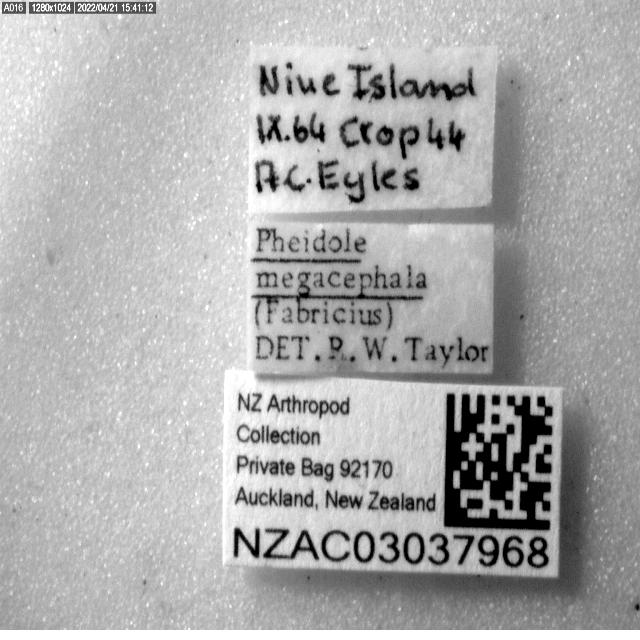hand_label: (249, 47, 498, 214)
typed_label: (224, 372, 561, 577), (248, 222, 494, 375)
